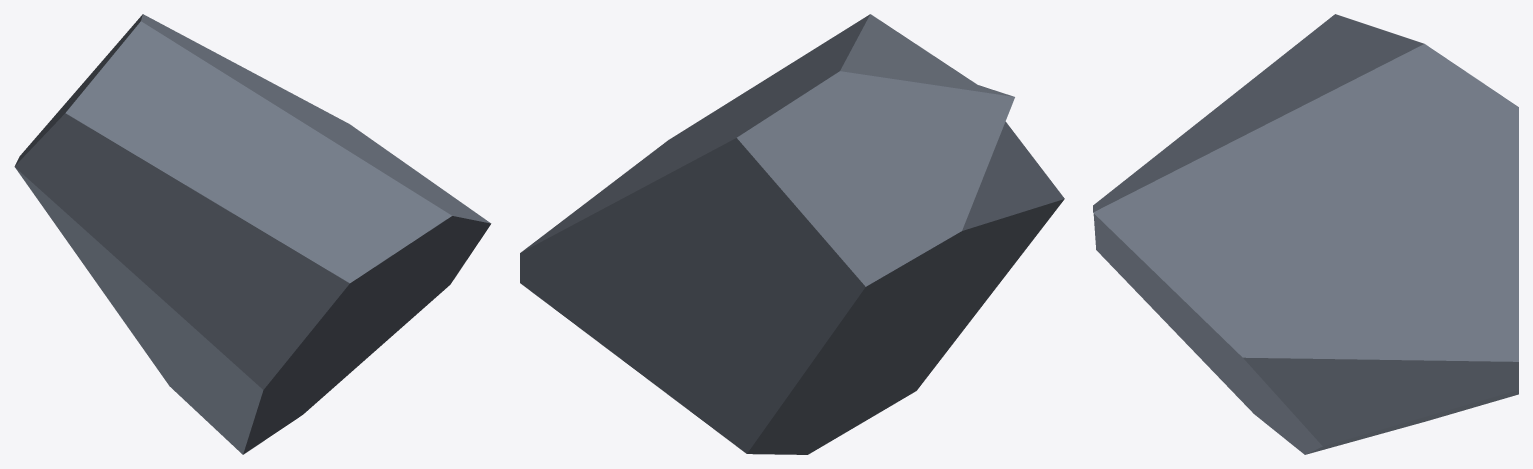
Rendered from Stone C.fbx.
3 views of the same model, side by side, from view 1: azimuth 30°, elevation 25°; view 2: azimuth 150°, elevation 25°; view 3: azimuth 270°, elevation 25° (orthographic). The views are drawn at different scales.
Parts seen in each view (by area): view 1: Stone C; view 2: Stone C; view 3: Stone C.
Boxes of the visible parts, bbox=[...] form: Stone C: bbox=[14, 14, 491, 454]; Stone C: bbox=[520, 14, 1064, 454]; Stone C: bbox=[1093, 14, 1518, 454].
Size of the model in its own units: 94.1 by 88.61 by 94.1.
